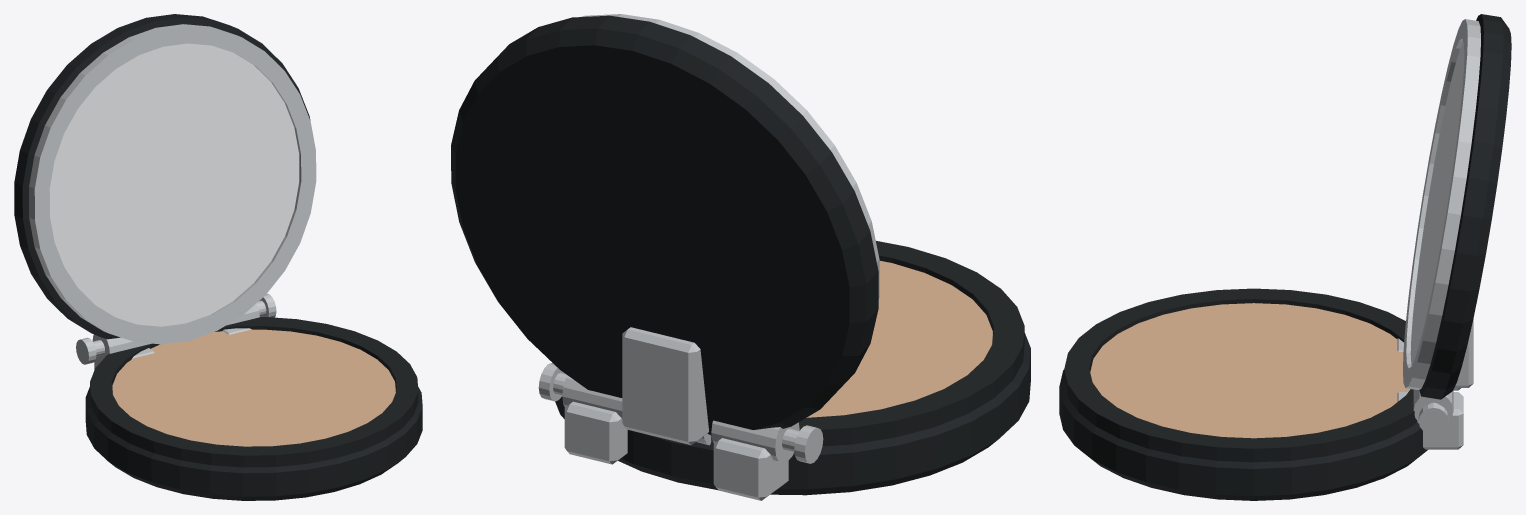
Rendered from A-NEW-20261026-HINGED-POWDER-COMPACT-001_LOD2_R3.glb.
The picture shows the model from 3 angles, left to right: view 1: azimuth 30°, elevation 25°; view 2: azimuth 150°, elevation 25°; view 3: azimuth 270°, elevation 25°; orthographic projection. The views are drawn at different scales.
Parts seen in each view (by area): view 1: inset reflective mirror, inset powder pan, mirror surrounding rim, raised rounded powder rim, compact base, round lid backing, base hinge knuckle, hinge pin end cap; view 2: round lid backing, compact base, inset powder pan, raised rounded powder rim, lid hinge leaf, base hinge leaf, base hinge leaf.001, mirror surrounding rim, base hinge knuckle, base hinge knuckle.001, hinge pin end cap; view 3: inset powder pan, raised rounded powder rim, compact base, round lid backing, mirror surrounding rim, inset reflective mirror, base hinge leaf.001, hinge pin end cap.001, lid hinge leaf, base hinge knuckle.001.
Boxes of the visible parts, x1=… form: inset reflective mirror: x1=49, y1=43, x2=299, y2=326; inset powder pan: x1=112, y1=329, x2=395, y2=446; mirror surrounding rim: x1=29, y1=24, x2=316, y2=344; raised rounded powder rim: x1=90, y1=317, x2=418, y2=467; compact base: x1=85, y1=386, x2=422, y2=500; round lid backing: x1=14, y1=14, x2=310, y2=339; base hinge knuckle: x1=92, y1=334, x2=150, y2=361; hinge pin end cap: x1=76, y1=337, x2=96, y2=364; round lid backing: x1=451, y1=15, x2=878, y2=435; compact base: x1=552, y1=333, x2=1030, y2=495; inset powder pan: x1=806, y1=261, x2=992, y2=417; raised rounded powder rim: x1=711, y1=241, x2=1024, y2=446; lid hinge leaf: x1=622, y1=327, x2=708, y2=445; base hinge leaf: x1=713, y1=438, x2=788, y2=500; base hinge leaf.001: x1=564, y1=401, x2=627, y2=464; mirror surrounding rim: x1=581, y1=14, x2=879, y2=299; base hinge knuckle: x1=711, y1=420, x2=799, y2=463; base hinge knuckle.001: x1=562, y1=375, x2=622, y2=418; hinge pin end cap: x1=794, y1=425, x2=823, y2=463; inset powder pan: x1=1090, y1=303, x2=1410, y2=438; raised rounded powder rim: x1=1064, y1=288, x2=1417, y2=462; compact base: x1=1059, y1=369, x2=1427, y2=500; round lid backing: x1=1419, y1=14, x2=1511, y2=399; mirror surrounding rim: x1=1403, y1=19, x2=1480, y2=389; inset reflective mirror: x1=1410, y1=42, x2=1464, y2=365; base hinge leaf.001: x1=1397, y1=392, x2=1463, y2=449; hinge pin end cap.001: x1=1418, y1=403, x2=1448, y2=434; lid hinge leaf: x1=1454, y1=319, x2=1473, y2=387; base hinge knuckle.001: x1=1413, y1=389, x2=1453, y2=422.
Size of the model in its own units: 0.078 by 0.0874 by 0.0906.
